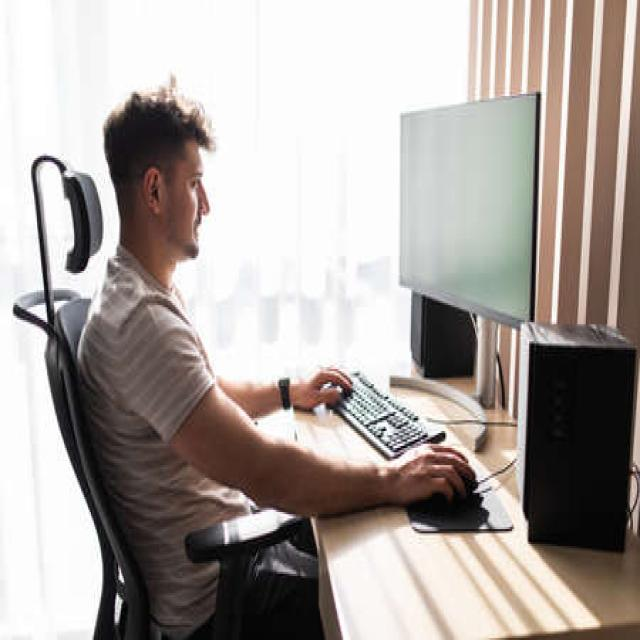desktop-person: (68, 64, 548, 622)
